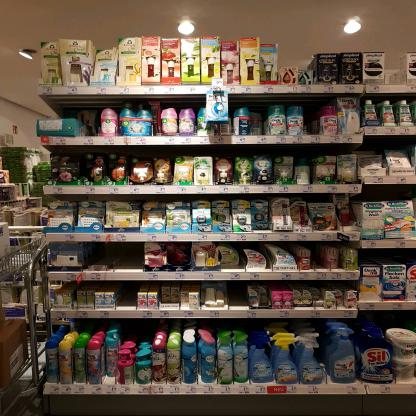Void: (92, 244, 142, 271), (304, 103, 317, 136), (230, 283, 246, 308), (122, 288, 133, 307)
